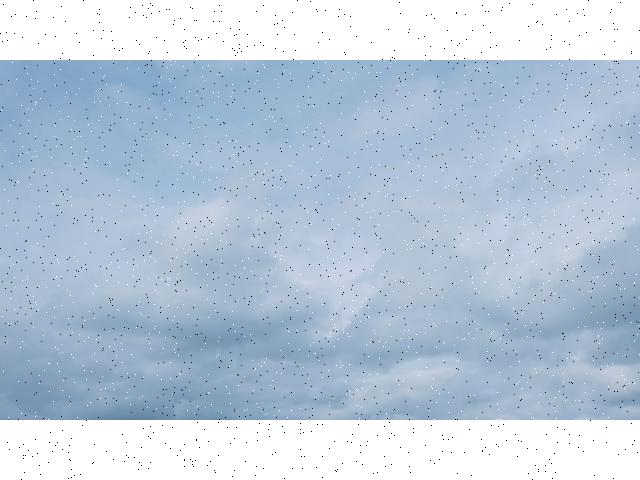Anti-Drone: (382, 268, 390, 276)
